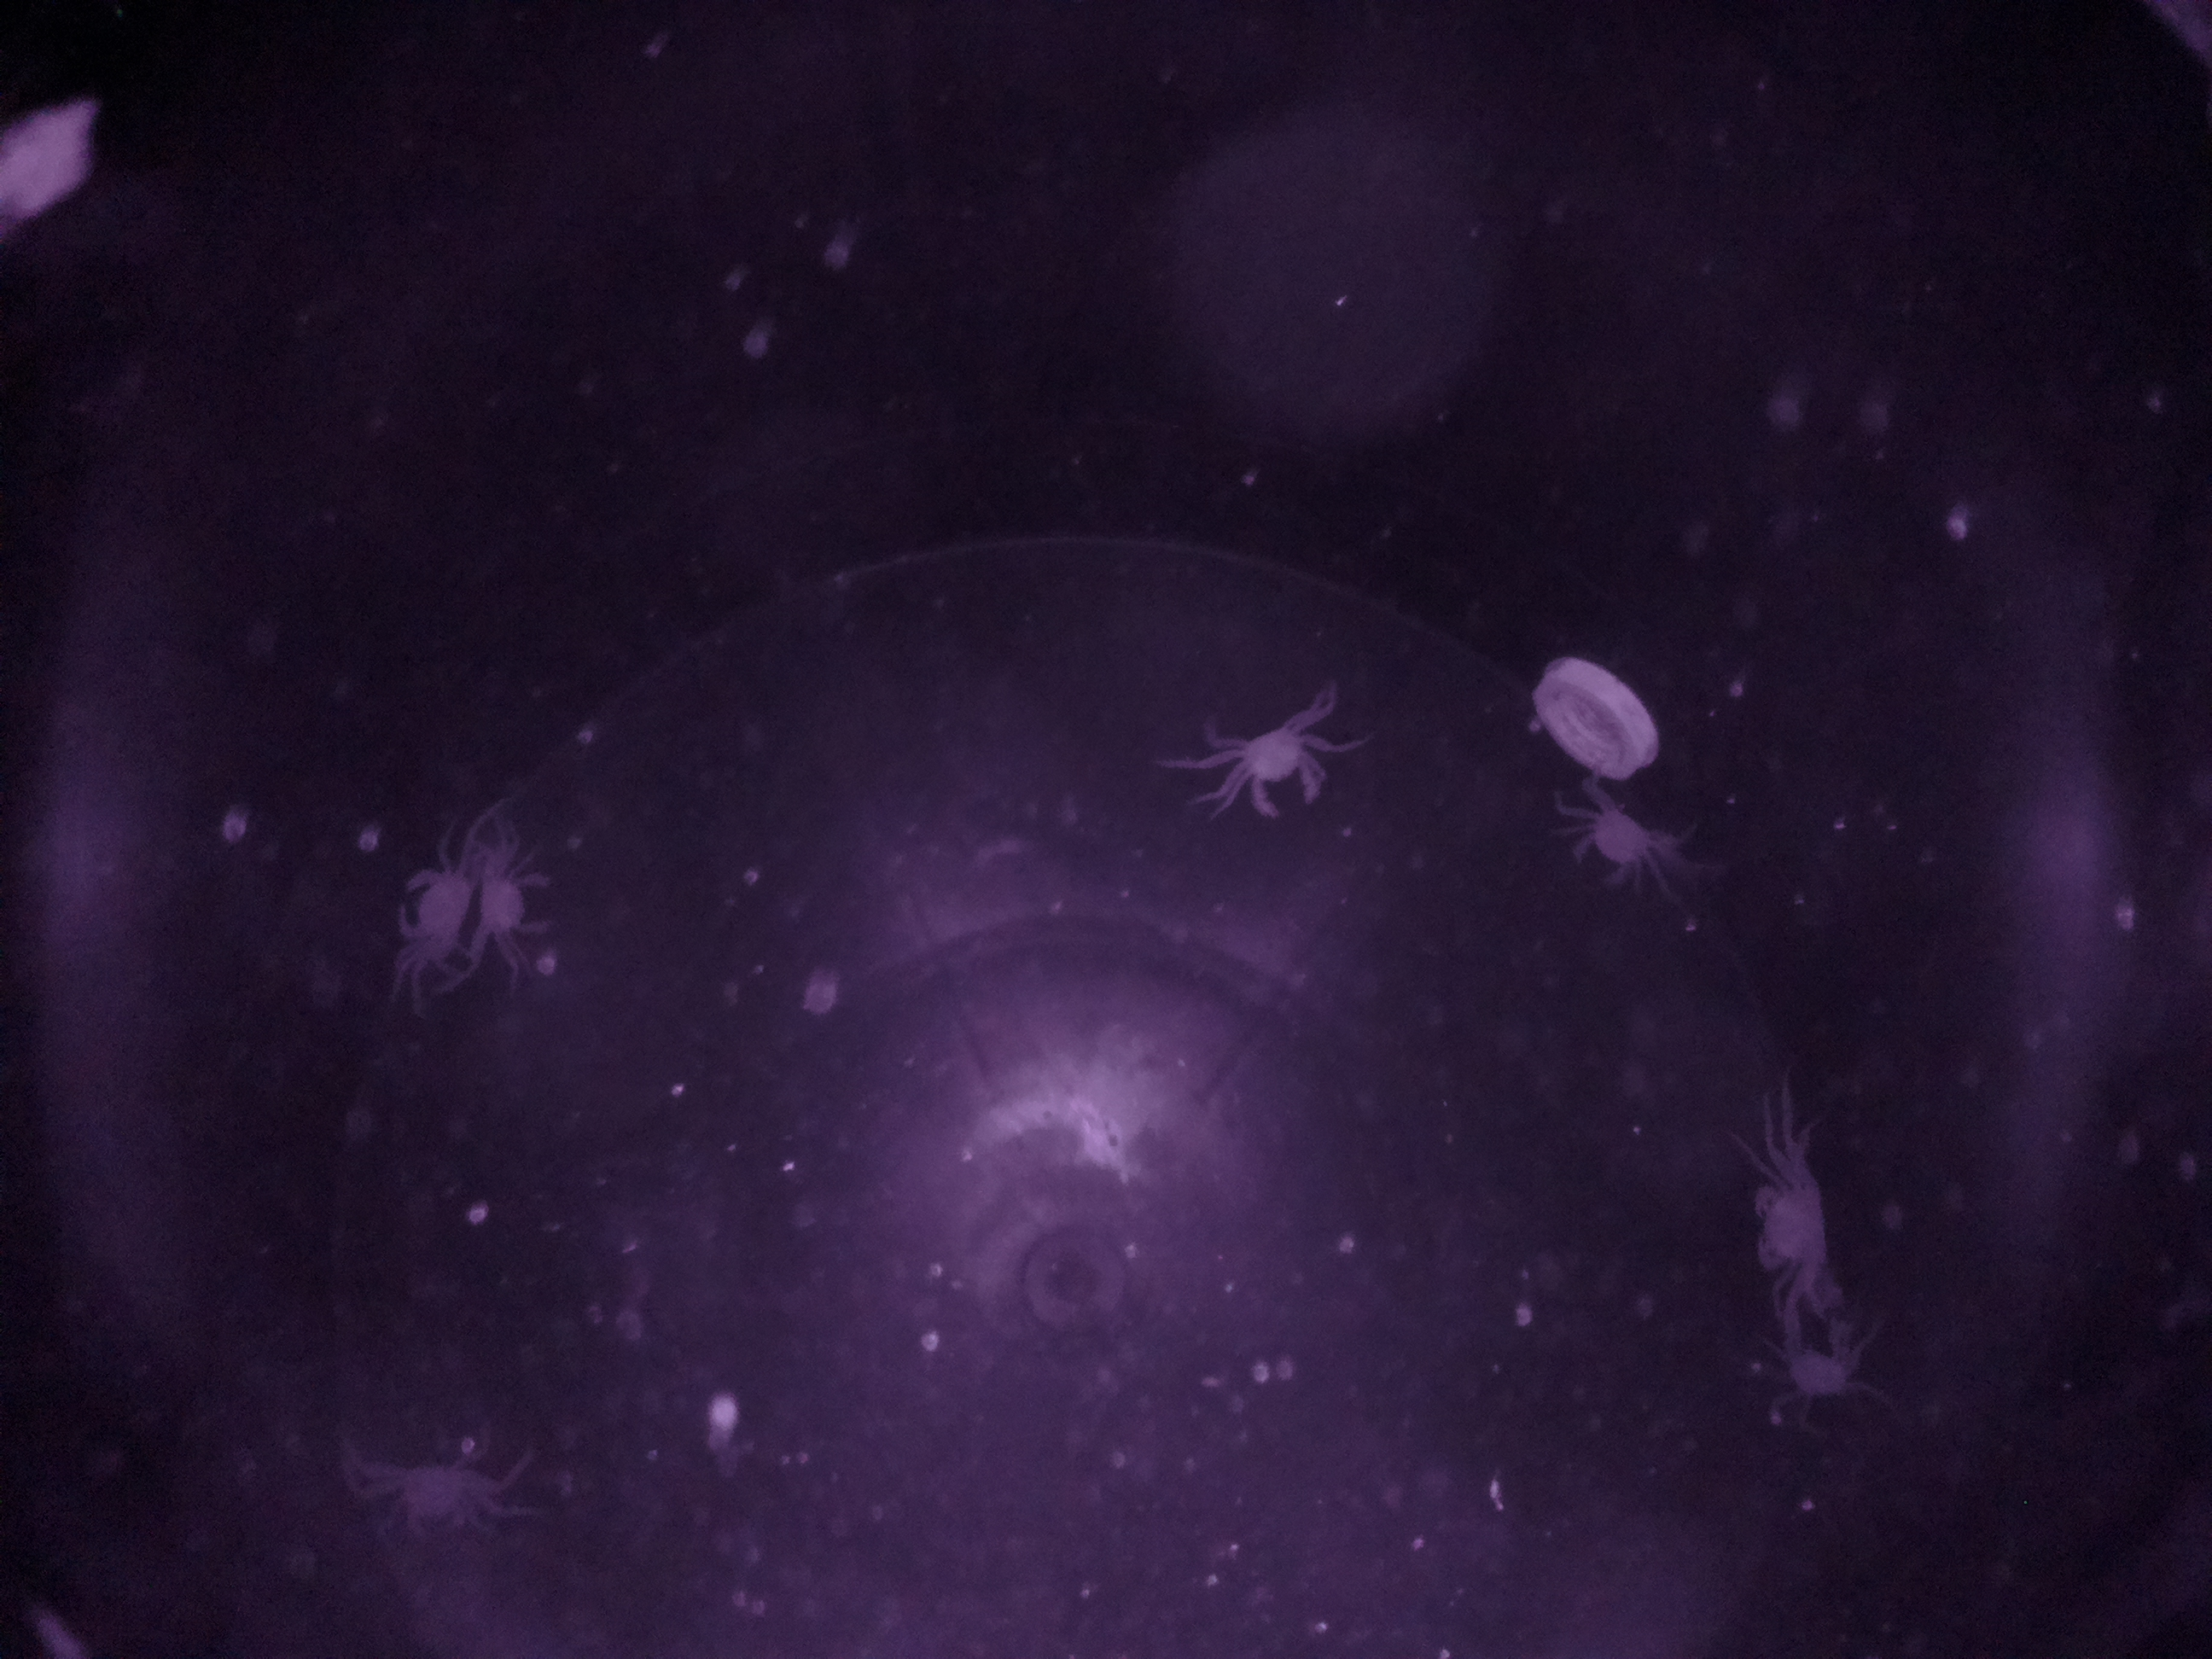Crab: (1731, 1162, 1864, 1286), (1230, 706, 1341, 831), (469, 835, 580, 960), (380, 840, 475, 965), (1559, 786, 1660, 896)
